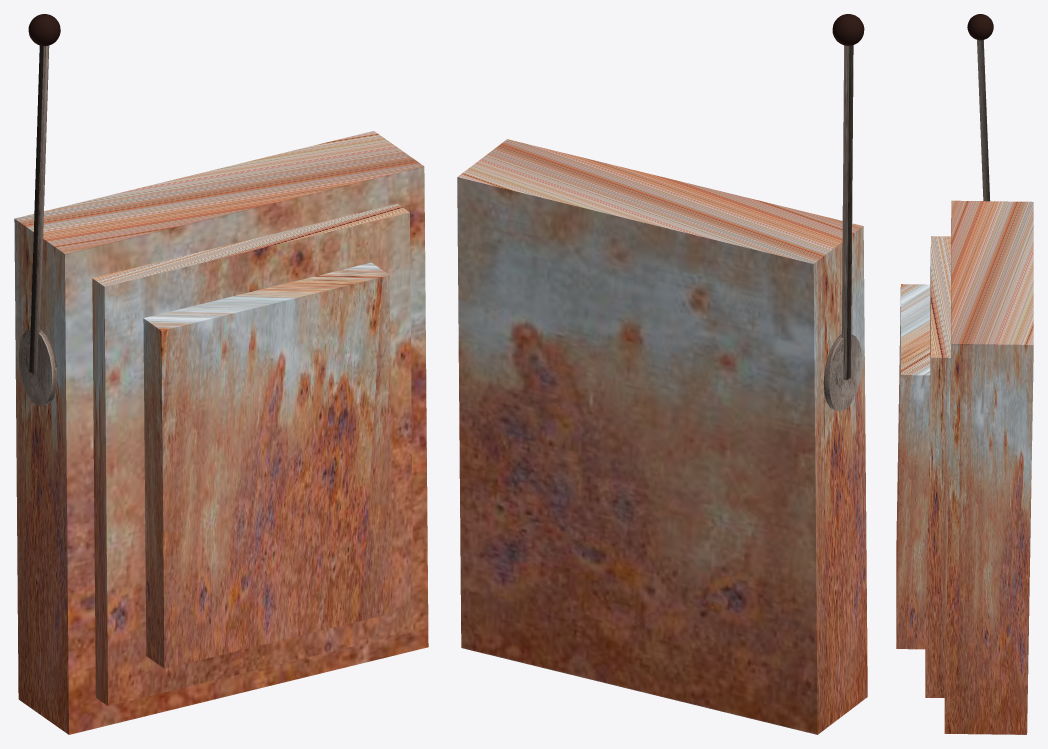
File: fuze_box3.fbx
3 renders of one model, left to right at view 1: azimuth 30°, elevation 25°; view 2: azimuth 150°, elevation 25°; view 3: azimuth 270°, elevation 25°, orthographic. The views are drawn at different scales.
Parts seen in each view (by area): view 1: pCube8, pCube7, pCylinder1, pSphere1; view 2: pCube8, pCube7, pCylinder1, pSphere1; view 3: pCube8, pCube7, pSphere1.
Boxes of the visible parts, <box> form: pCube8: <box>14,131,428,734</box>; pCube7: <box>29,45,49,374</box>; pCylinder1: <box>19,329,57,405</box>; pSphere1: <box>28,14,60,46</box>; pCube8: <box>457,139,867,734</box>; pCube7: <box>841,45,853,380</box>; pCylinder1: <box>823,334,862,411</box>; pSphere1: <box>832,14,864,45</box>; pCube8: <box>896,200,1033,734</box>; pCube7: <box>977,40,990,201</box>; pSphere1: <box>967,14,993,40</box>.
Bounding box in the file's own units: 6.41 × 11.49 × 2.49.
